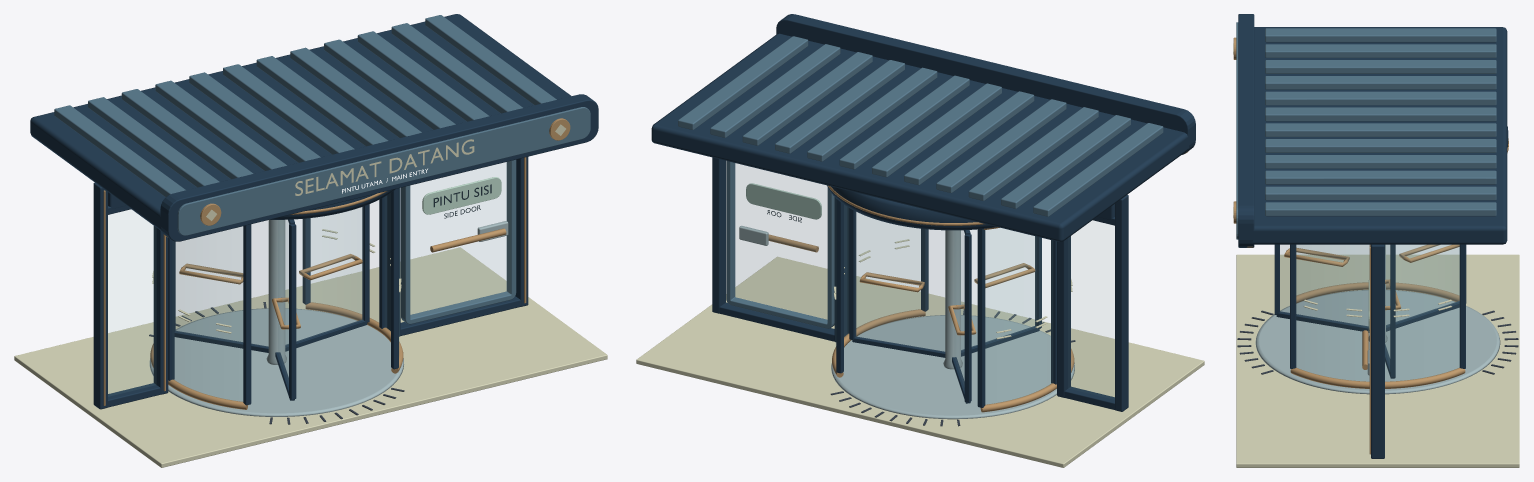
3 views of the same model, side by side, from view 1: azimuth 30°, elevation 25°; view 2: azimuth 150°, elevation 25°; view 3: azimuth 270°, elevation 25° (orthographic). The views are drawn at different scales.
Visible parts, largest first — view 1: Pintu Putar | Revolving Mall Portal - Entry Canopy, Pintu Putar | Revolving Mall Portal - Threshold, Pintu Putar | Revolving Mall Portal - Rotor Glass, Pintu Putar | Revolving Mall Portal - Outer Frame, Pintu Putar | Revolving Mall Portal - Glazing, Pintu Putar | Revolving Mall Portal - Drum Frame, Pintu Putar | Revolving Mall Portal - Rotor Frame, Pintu Putar | Revolving Mall Portal - Bypass Door, Pintu Putar | Revolving Mall Portal - Graphics; view 2: Pintu Putar | Revolving Mall Portal - Entry Canopy, Pintu Putar | Revolving Mall Portal - Threshold, Pintu Putar | Revolving Mall Portal - Rotor Glass, Pintu Putar | Revolving Mall Portal - Glazing, Pintu Putar | Revolving Mall Portal - Outer Frame, Pintu Putar | Revolving Mall Portal - Drum Frame, Pintu Putar | Revolving Mall Portal - Rotor Frame, Pintu Putar | Revolving Mall Portal - Bypass Door; view 3: Pintu Putar | Revolving Mall Portal - Entry Canopy, Pintu Putar | Revolving Mall Portal - Threshold, Pintu Putar | Revolving Mall Portal - Rotor Glass, Pintu Putar | Revolving Mall Portal - Drum Glass, Pintu Putar | Revolving Mall Portal - Drum Frame, Pintu Putar | Revolving Mall Portal - Rotor Frame, Pintu Putar | Revolving Mall Portal - Outer Frame, Pintu Putar | Revolving Mall Portal - Bypass Door.
Boxes of the visible parts, x1,y1,x2,y2 form: Pintu Putar | Revolving Mall Portal - Entry Canopy: [30, 14, 598, 241]; Pintu Putar | Revolving Mall Portal - Threshold: [14, 247, 607, 467]; Pintu Putar | Revolving Mall Portal - Rotor Glass: [176, 207, 362, 382]; Pintu Putar | Revolving Mall Portal - Outer Frame: [93, 157, 528, 409]; Pintu Putar | Revolving Mall Portal - Glazing: [411, 161, 510, 318]; Pintu Putar | Revolving Mall Portal - Drum Frame: [150, 188, 403, 409]; Pintu Putar | Revolving Mall Portal - Rotor Frame: [174, 204, 369, 400]; Pintu Putar | Revolving Mall Portal - Bypass Door: [401, 159, 516, 324]; Pintu Putar | Revolving Mall Portal - Graphics: [200, 118, 570, 225]; Pintu Putar | Revolving Mall Portal - Entry Canopy: [651, 14, 1195, 241]; Pintu Putar | Revolving Mall Portal - Threshold: [636, 256, 1204, 467]; Pintu Putar | Revolving Mall Portal - Rotor Glass: [856, 212, 1035, 383]; Pintu Putar | Revolving Mall Portal - Glazing: [736, 164, 826, 318]; Pintu Putar | Revolving Mall Portal - Outer Frame: [712, 157, 1128, 411]; Pintu Putar | Revolving Mall Portal - Drum Frame: [827, 185, 1074, 412]; Pintu Putar | Revolving Mall Portal - Rotor Frame: [849, 208, 1041, 403]; Pintu Putar | Revolving Mall Portal - Bypass Door: [726, 161, 834, 328]; Pintu Putar | Revolving Mall Portal - Entry Canopy: [1236, 14, 1507, 247]; Pintu Putar | Revolving Mall Portal - Threshold: [1236, 254, 1519, 467]; Pintu Putar | Revolving Mall Portal - Rotor Glass: [1280, 245, 1458, 361]; Pintu Putar | Revolving Mall Portal - Drum Glass: [1296, 245, 1459, 295]; Pintu Putar | Revolving Mall Portal - Drum Frame: [1290, 126, 1508, 388]; Pintu Putar | Revolving Mall Portal - Rotor Frame: [1274, 244, 1466, 378]; Pintu Putar | Revolving Mall Portal - Outer Frame: [1369, 244, 1384, 458]; Pintu Putar | Revolving Mall Portal - Bypass Door: [1362, 245, 1370, 375].
Size of the model in its own units: 5.63 by 3.17 by 3.25.
